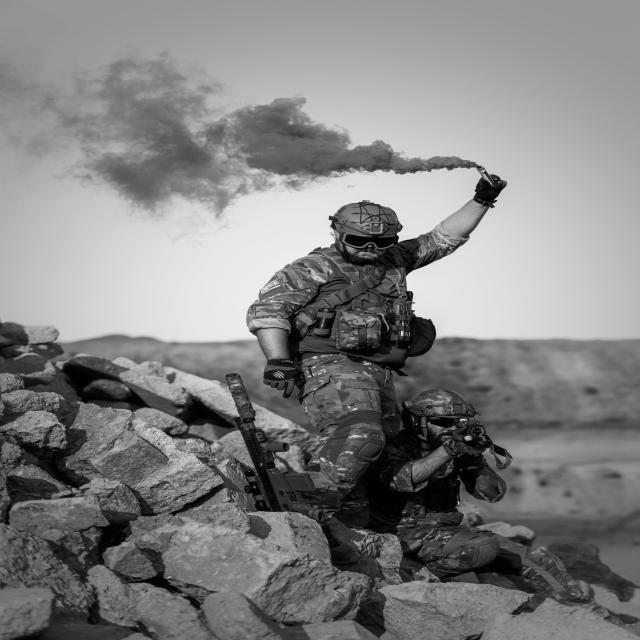Gun: (225, 372, 316, 511), (451, 419, 511, 468)
